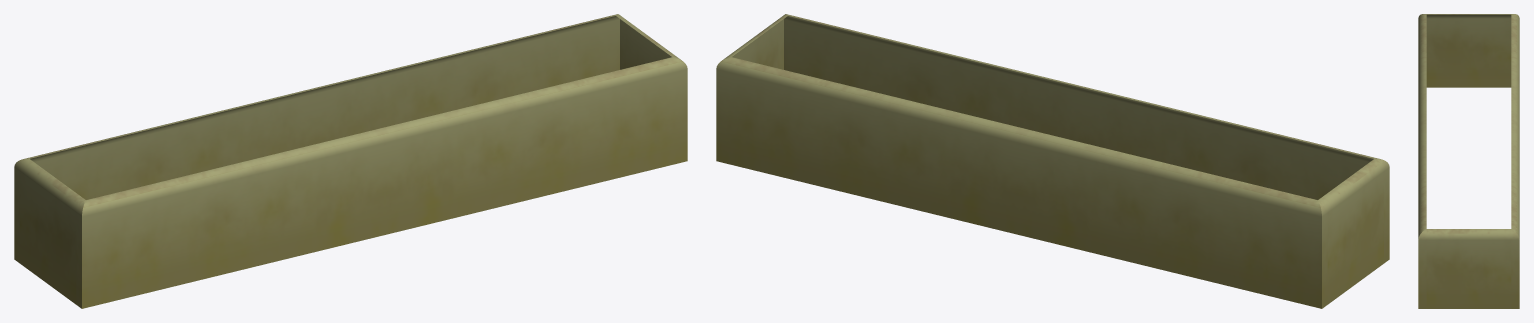
Rendered from WallSmallCollider.fbx.
3 renders of one model, left to right at view 1: azimuth 30°, elevation 25°; view 2: azimuth 150°, elevation 25°; view 3: azimuth 270°, elevation 25°, orthographic. The views are drawn at different scales.
Visible parts, largest first — view 1: WallSmallCollider; view 2: WallSmallCollider; view 3: WallSmallCollider.
Part boxes in pixels (x1,y1,x2,y2): WallSmallCollider: (14,14,687,308); WallSmallCollider: (716,14,1389,308); WallSmallCollider: (1418,14,1519,308).
Bounding box in the file's own units: 155 × 25 × 30.
